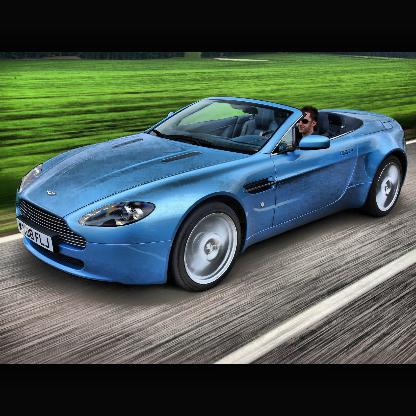Aston Martin V8 Vantage Convertible 2012: (15, 96, 409, 295)
